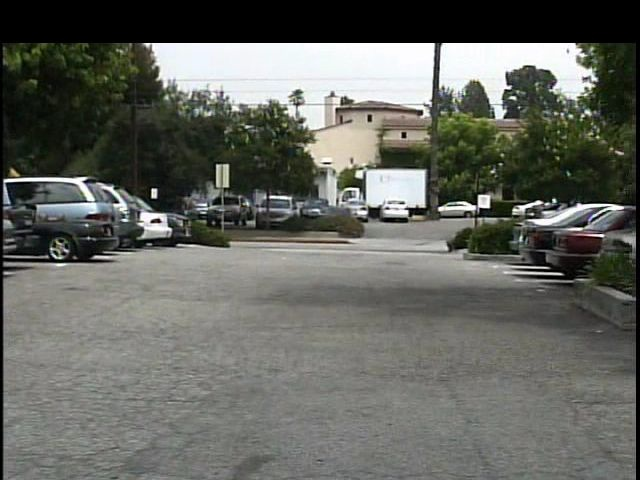person: (174, 200, 195, 239)
